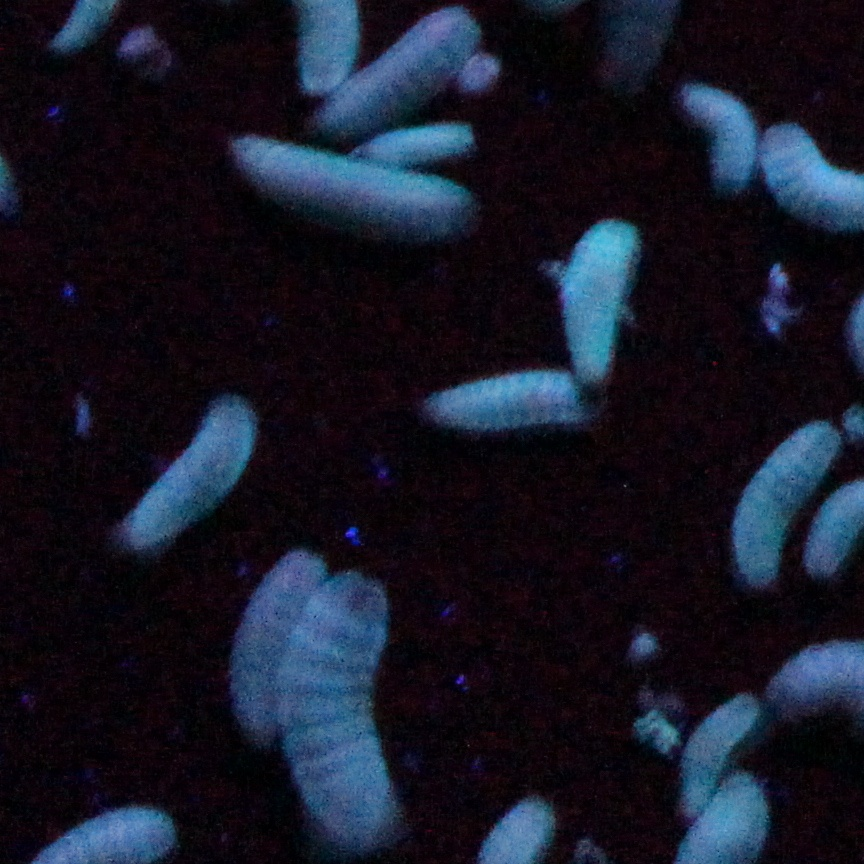larve: (270, 567, 419, 847), (218, 126, 478, 267), (114, 386, 260, 558), (320, 6, 470, 140), (725, 415, 839, 582), (223, 544, 318, 736), (547, 209, 638, 384), (414, 371, 623, 438), (672, 78, 767, 195), (674, 684, 758, 816), (350, 116, 485, 175)
